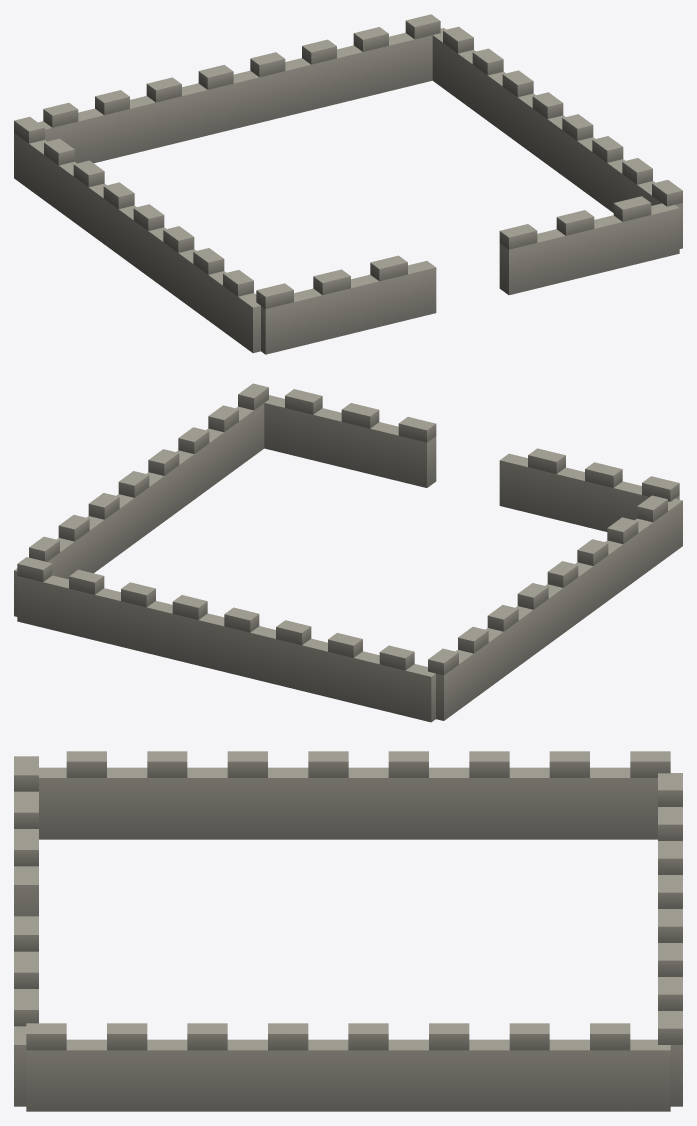
File: wall_EA_1.glb
The picture shows the model from 3 angles, top to bottom: view 1: azimuth 30°, elevation 25°; view 2: azimuth 150°, elevation 25°; view 3: azimuth 270°, elevation 25°; orthographic projection. The views are drawn at different scales.
Parts seen in each view (by area): view 1: Body; view 2: Body; view 3: Body.
Part boxes in pixels (<box>): Body: <box>14,14,682,354</box>; Body: <box>14,383,682,722</box>; Body: <box>14,751,682,1111</box>.
Size of the model in its own units: 5.92 by 0.76 by 5.92.
Materials: 1 (1 with a texture image).
